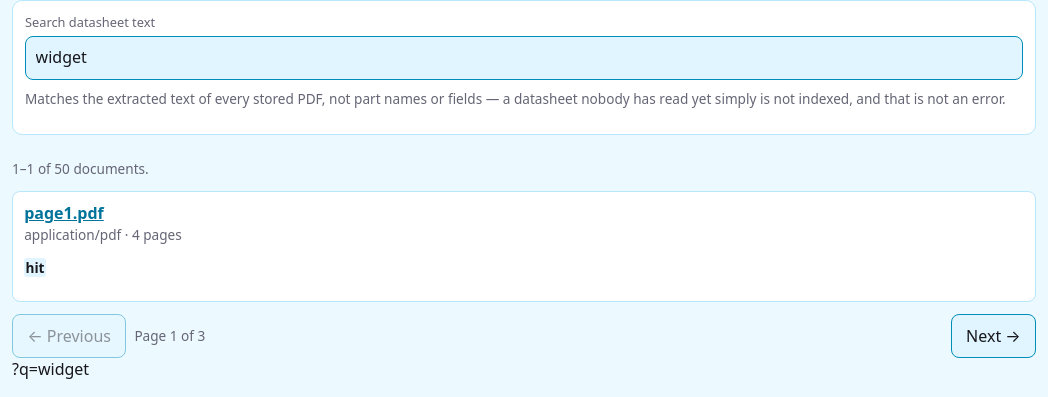
results › pages without dropping the query
Expected: the link "page1.pdf" is shown, [24,202,104,224]
What coordinates should you click on to do the following:
click the button "Next →"
I would click on:
 (993, 336)
Its box is [951,314,1036,358].
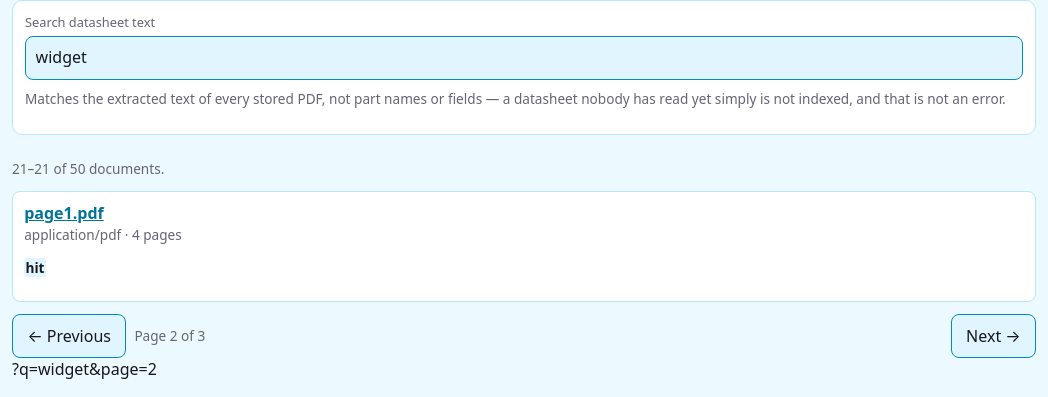
Expected: the text with test id "url" shows "page=2", [12,358,157,380]
